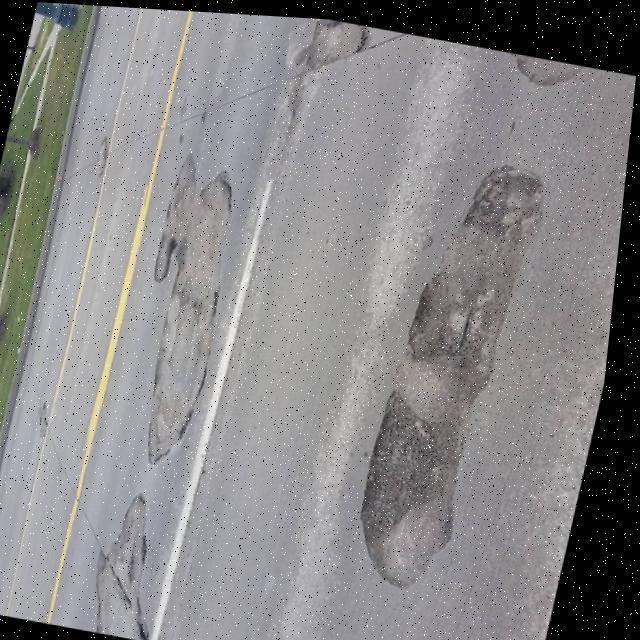Pothole: (354, 163, 555, 599), (144, 152, 237, 473), (92, 491, 153, 640)
